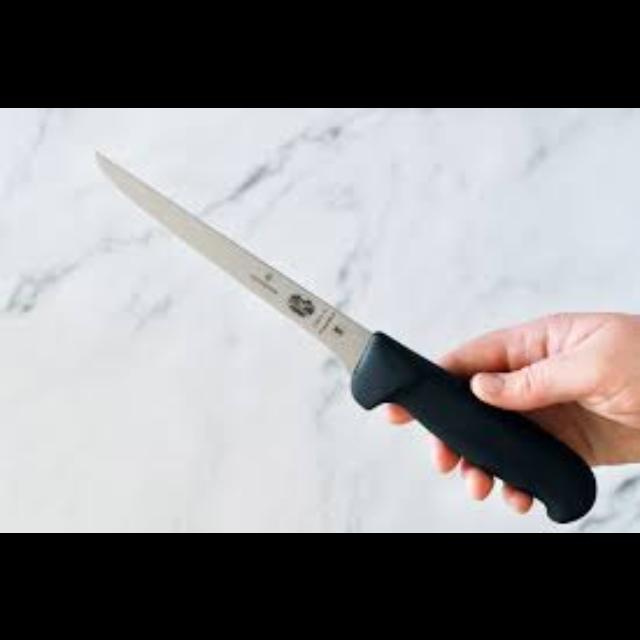knife: (93, 147, 595, 521), (388, 230, 640, 532), (450, 320, 640, 490)
